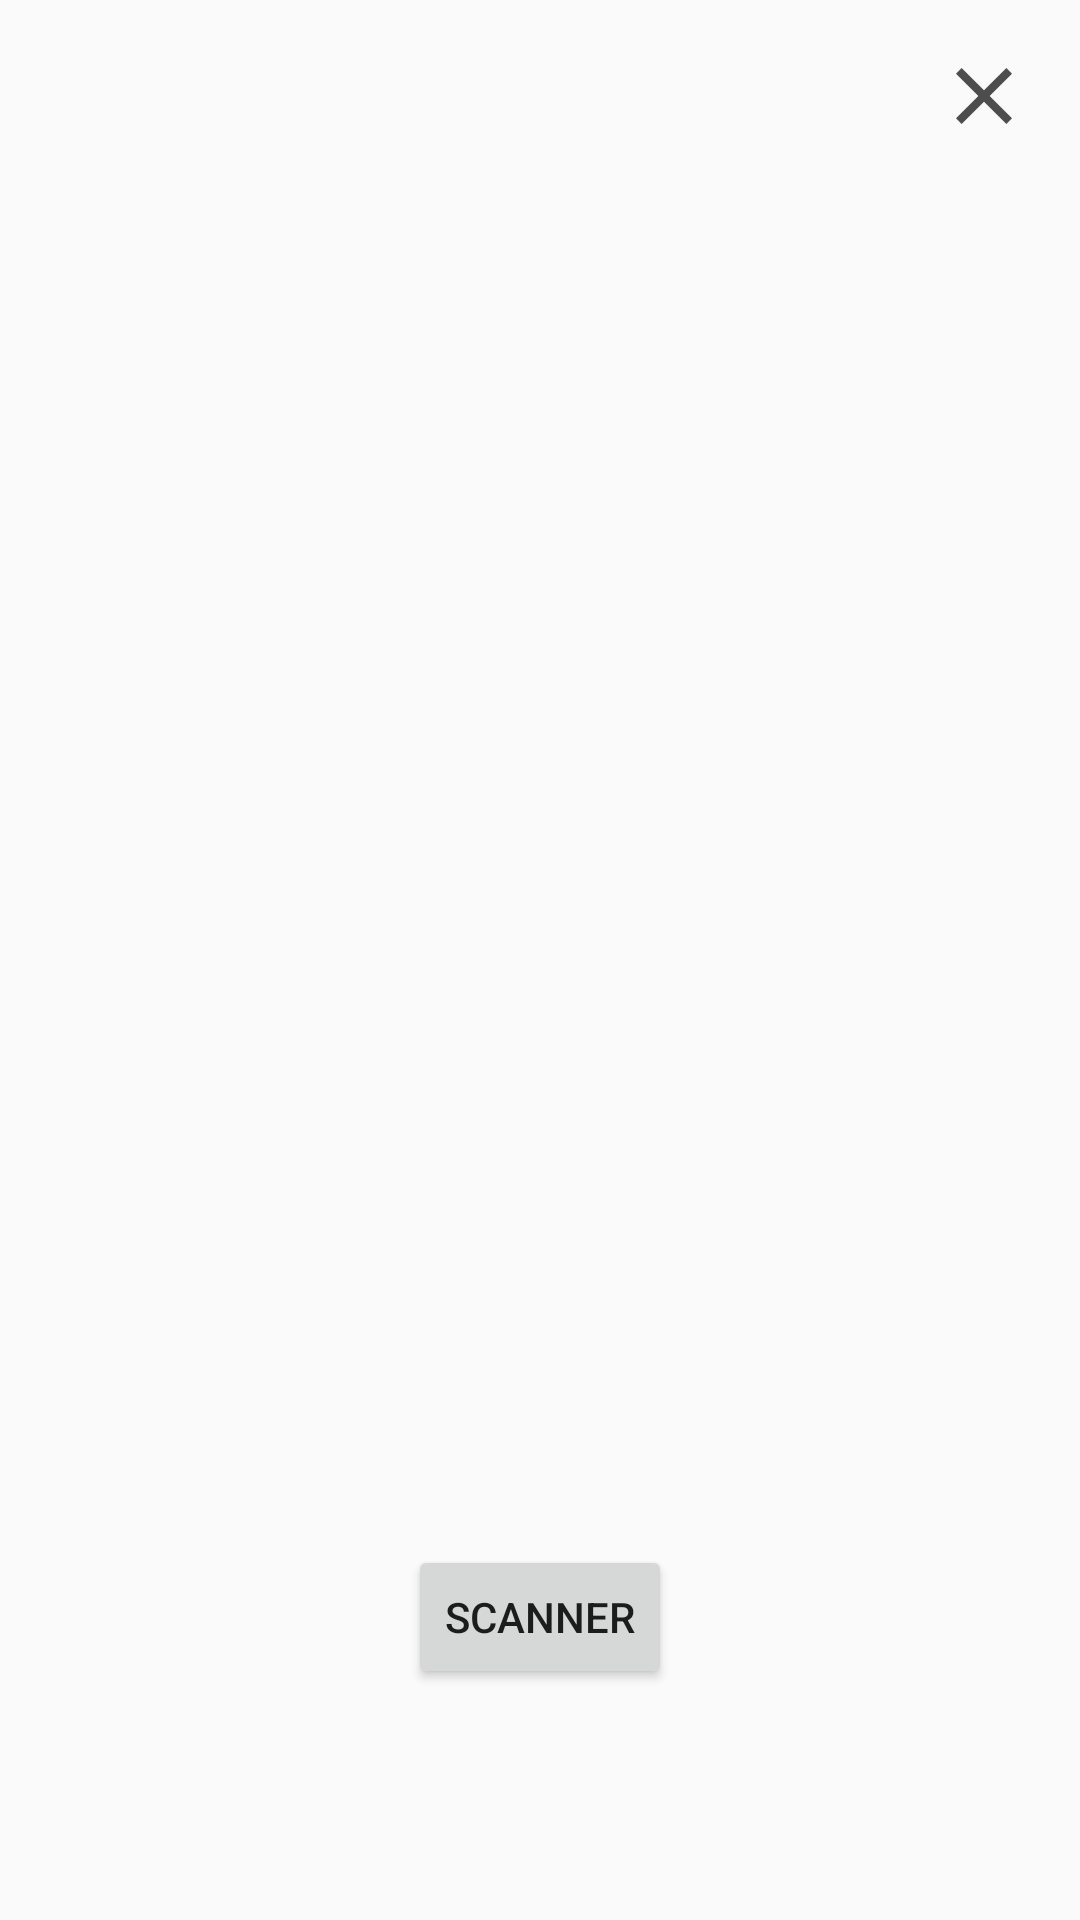

Named icons in this screenshot (1080 × 1920) and their bounding boxes, rect(x1, y1, x2, y2):
close: rect(956, 68, 1012, 124)
